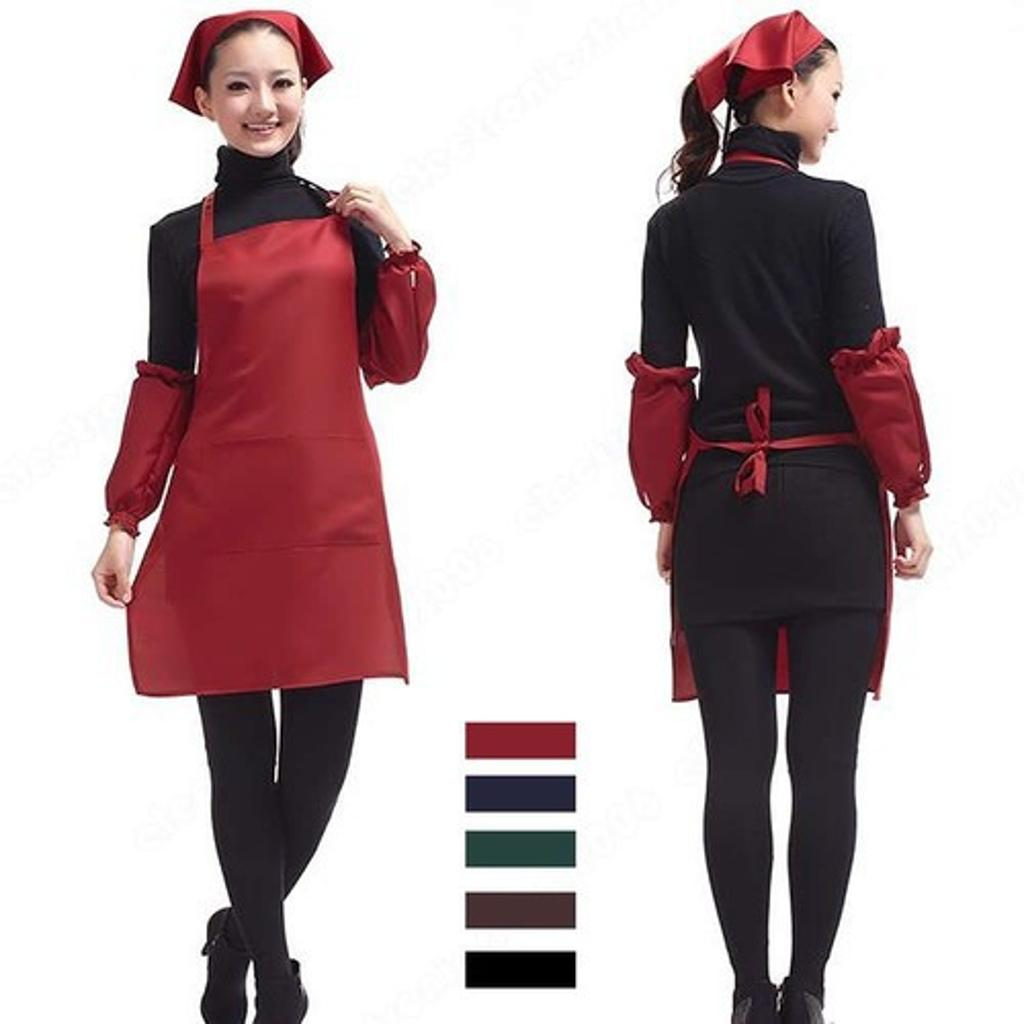face: (215, 45, 301, 157), (800, 58, 838, 164)
